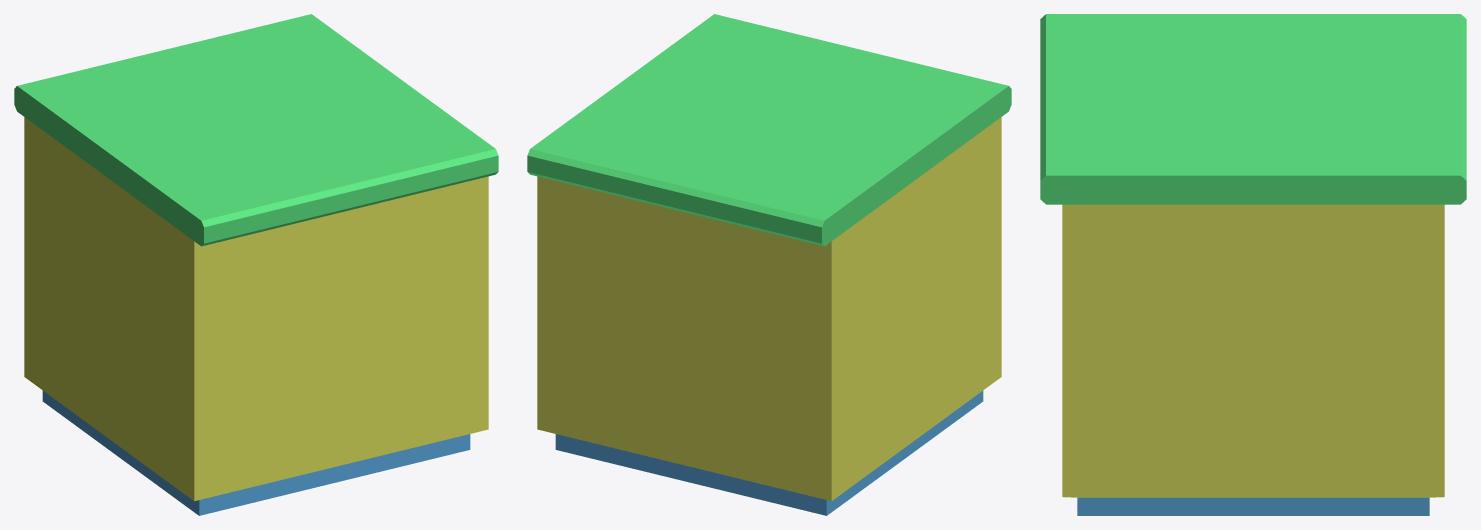
The model's file is Desk_07_A.fbx.
3 views of the same model, side by side, from view 1: azimuth 30°, elevation 25°; view 2: azimuth 150°, elevation 25°; view 3: azimuth 270°, elevation 25° (orthographic). The views are drawn at different scales.
Visible parts, largest first — view 1: Desk_07_A; view 2: Desk_07_A; view 3: Desk_07_A.
Part boxes in pixels (x1,y1,x2,y2): Desk_07_A: (14, 14, 498, 515); Desk_07_A: (527, 14, 1011, 515); Desk_07_A: (1040, 14, 1466, 515).
Bounding box in the file's own units: 91.44 × 91.44 × 102.
